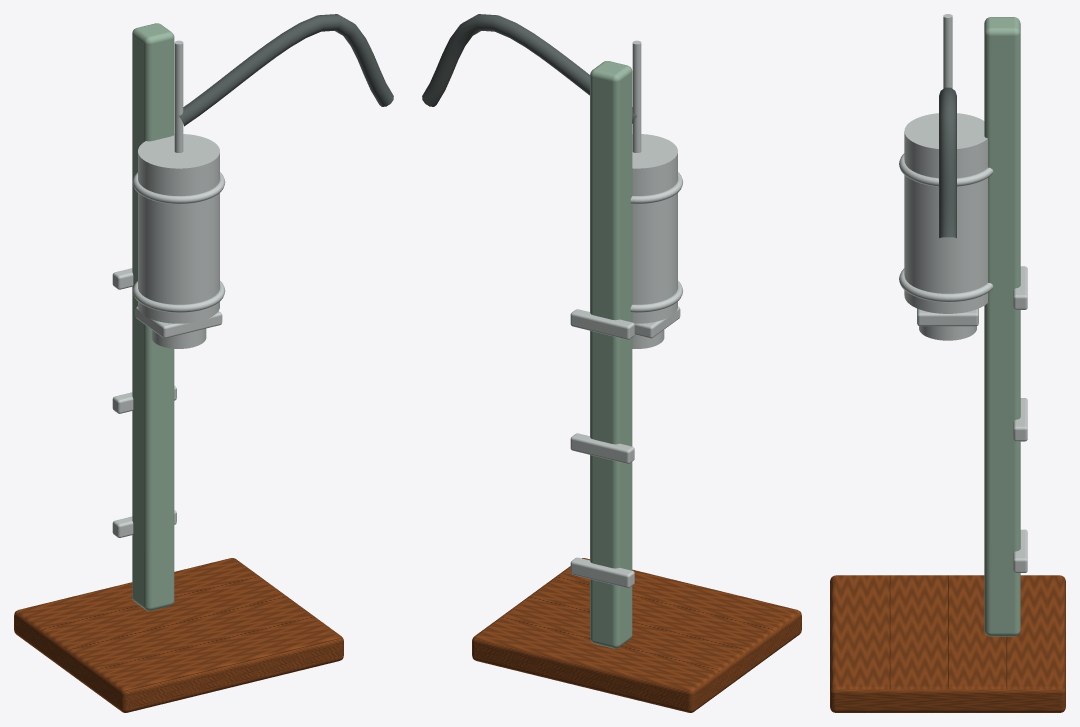
The model's file is ceramics-pottery-studio-wall-extruder-stand-e83759fe__29487.glb.
3 renders of one model, left to right at view 1: azimuth 30°, elevation 25°; view 2: azimuth 150°, elevation 25°; view 3: azimuth 270°, elevation 25°, orthographic. The views are drawn at different scales.
Visible parts, largest first — view 1: wall-extruder-stand; view 2: wall-extruder-stand; view 3: wall-extruder-stand.
Part boxes in pixels (x1,y1,x2,y2): wall-extruder-stand: [14, 14, 393, 712]; wall-extruder-stand: [422, 14, 801, 712]; wall-extruder-stand: [830, 14, 1065, 712].
Size of the model in its own units: 1.09 by 1.95 by 0.65.
4 materials, 1 textured.
